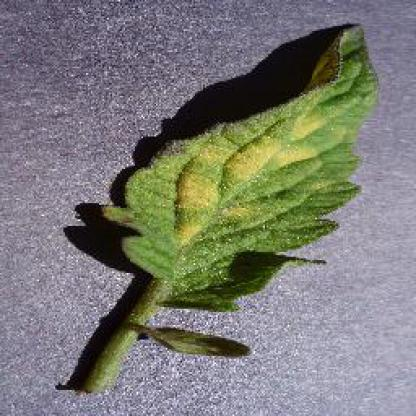bad leaf: (38, 23, 412, 412)
